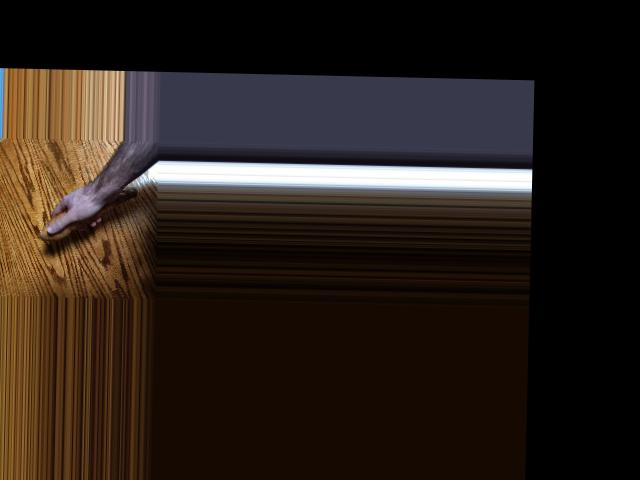sweet_potato: (37, 183, 154, 244)
